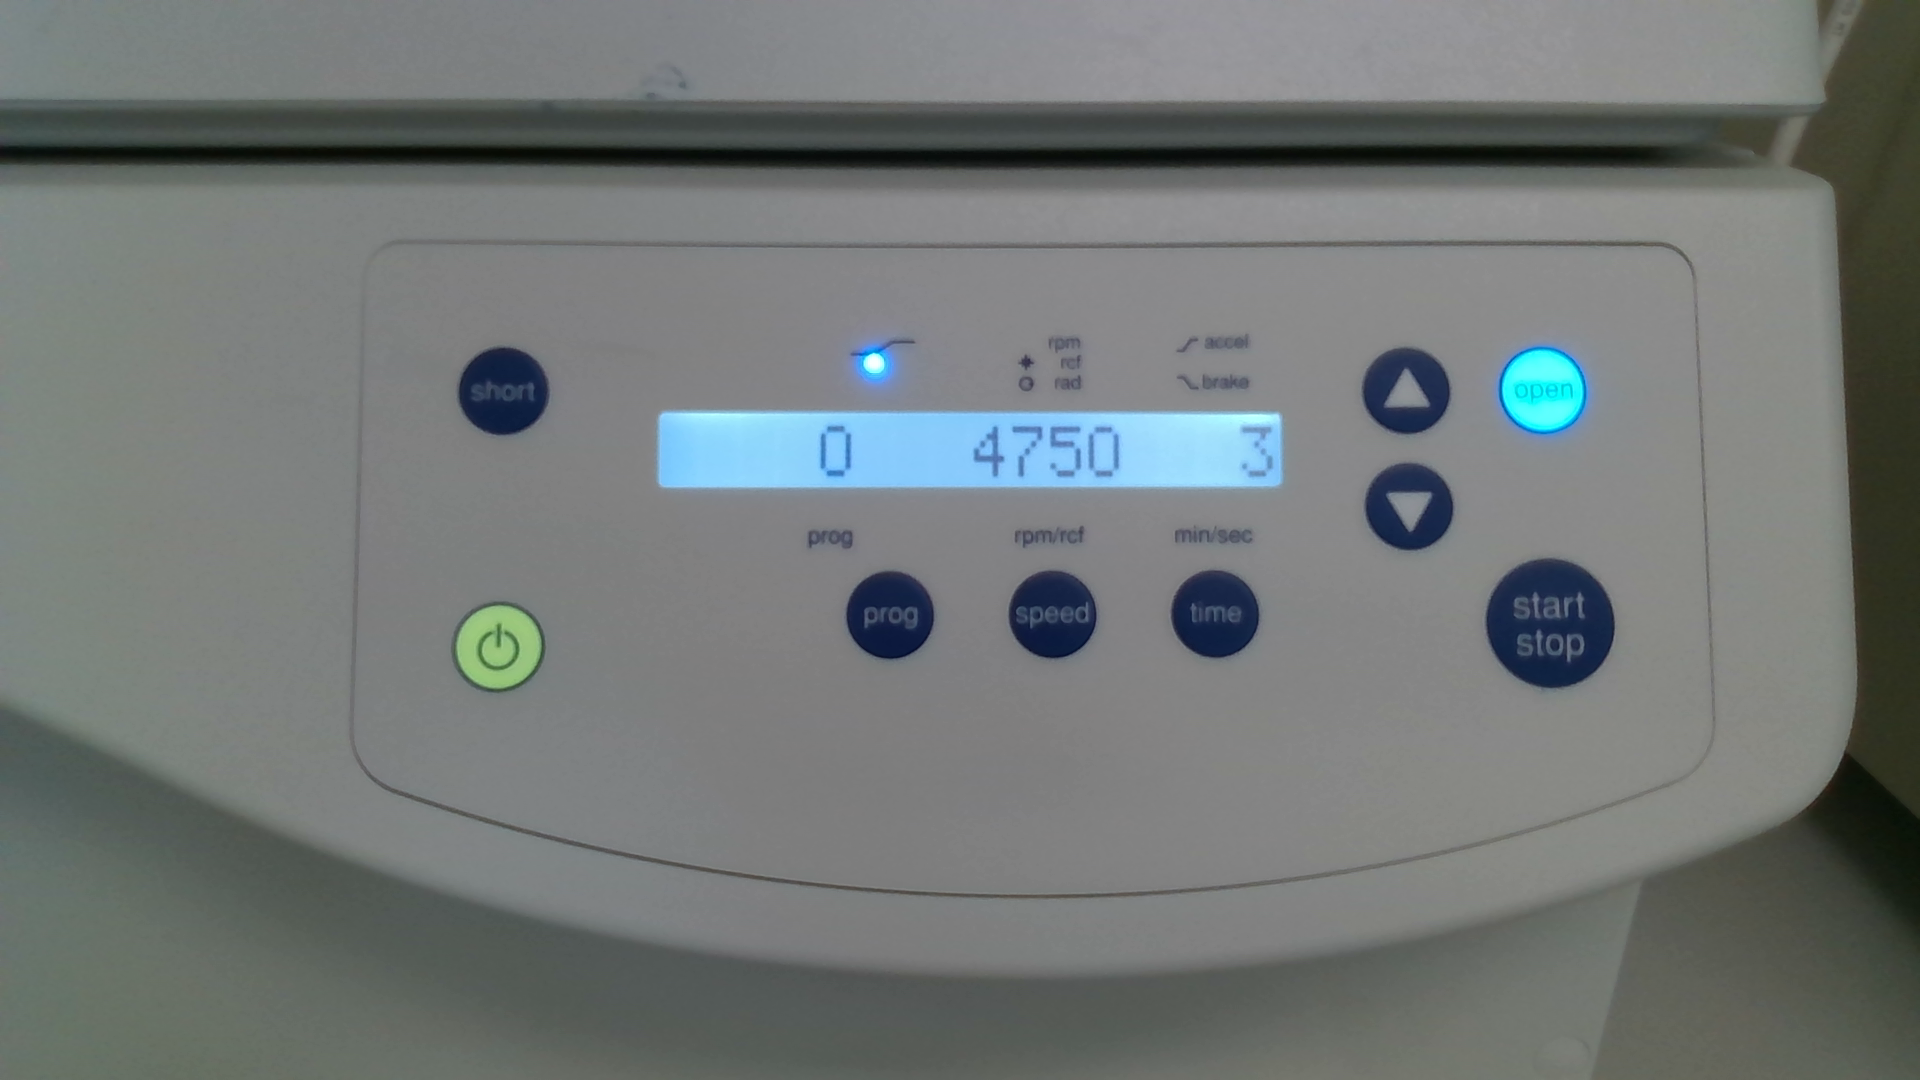0: (1088, 426, 1118, 477), (822, 426, 851, 477)
3: (1242, 426, 1273, 477)
4: (975, 426, 1004, 477)
5: (1050, 426, 1080, 477)
7: (1011, 426, 1042, 477)
open_on: (1497, 345, 1589, 436)
power_on: (450, 600, 545, 694)
